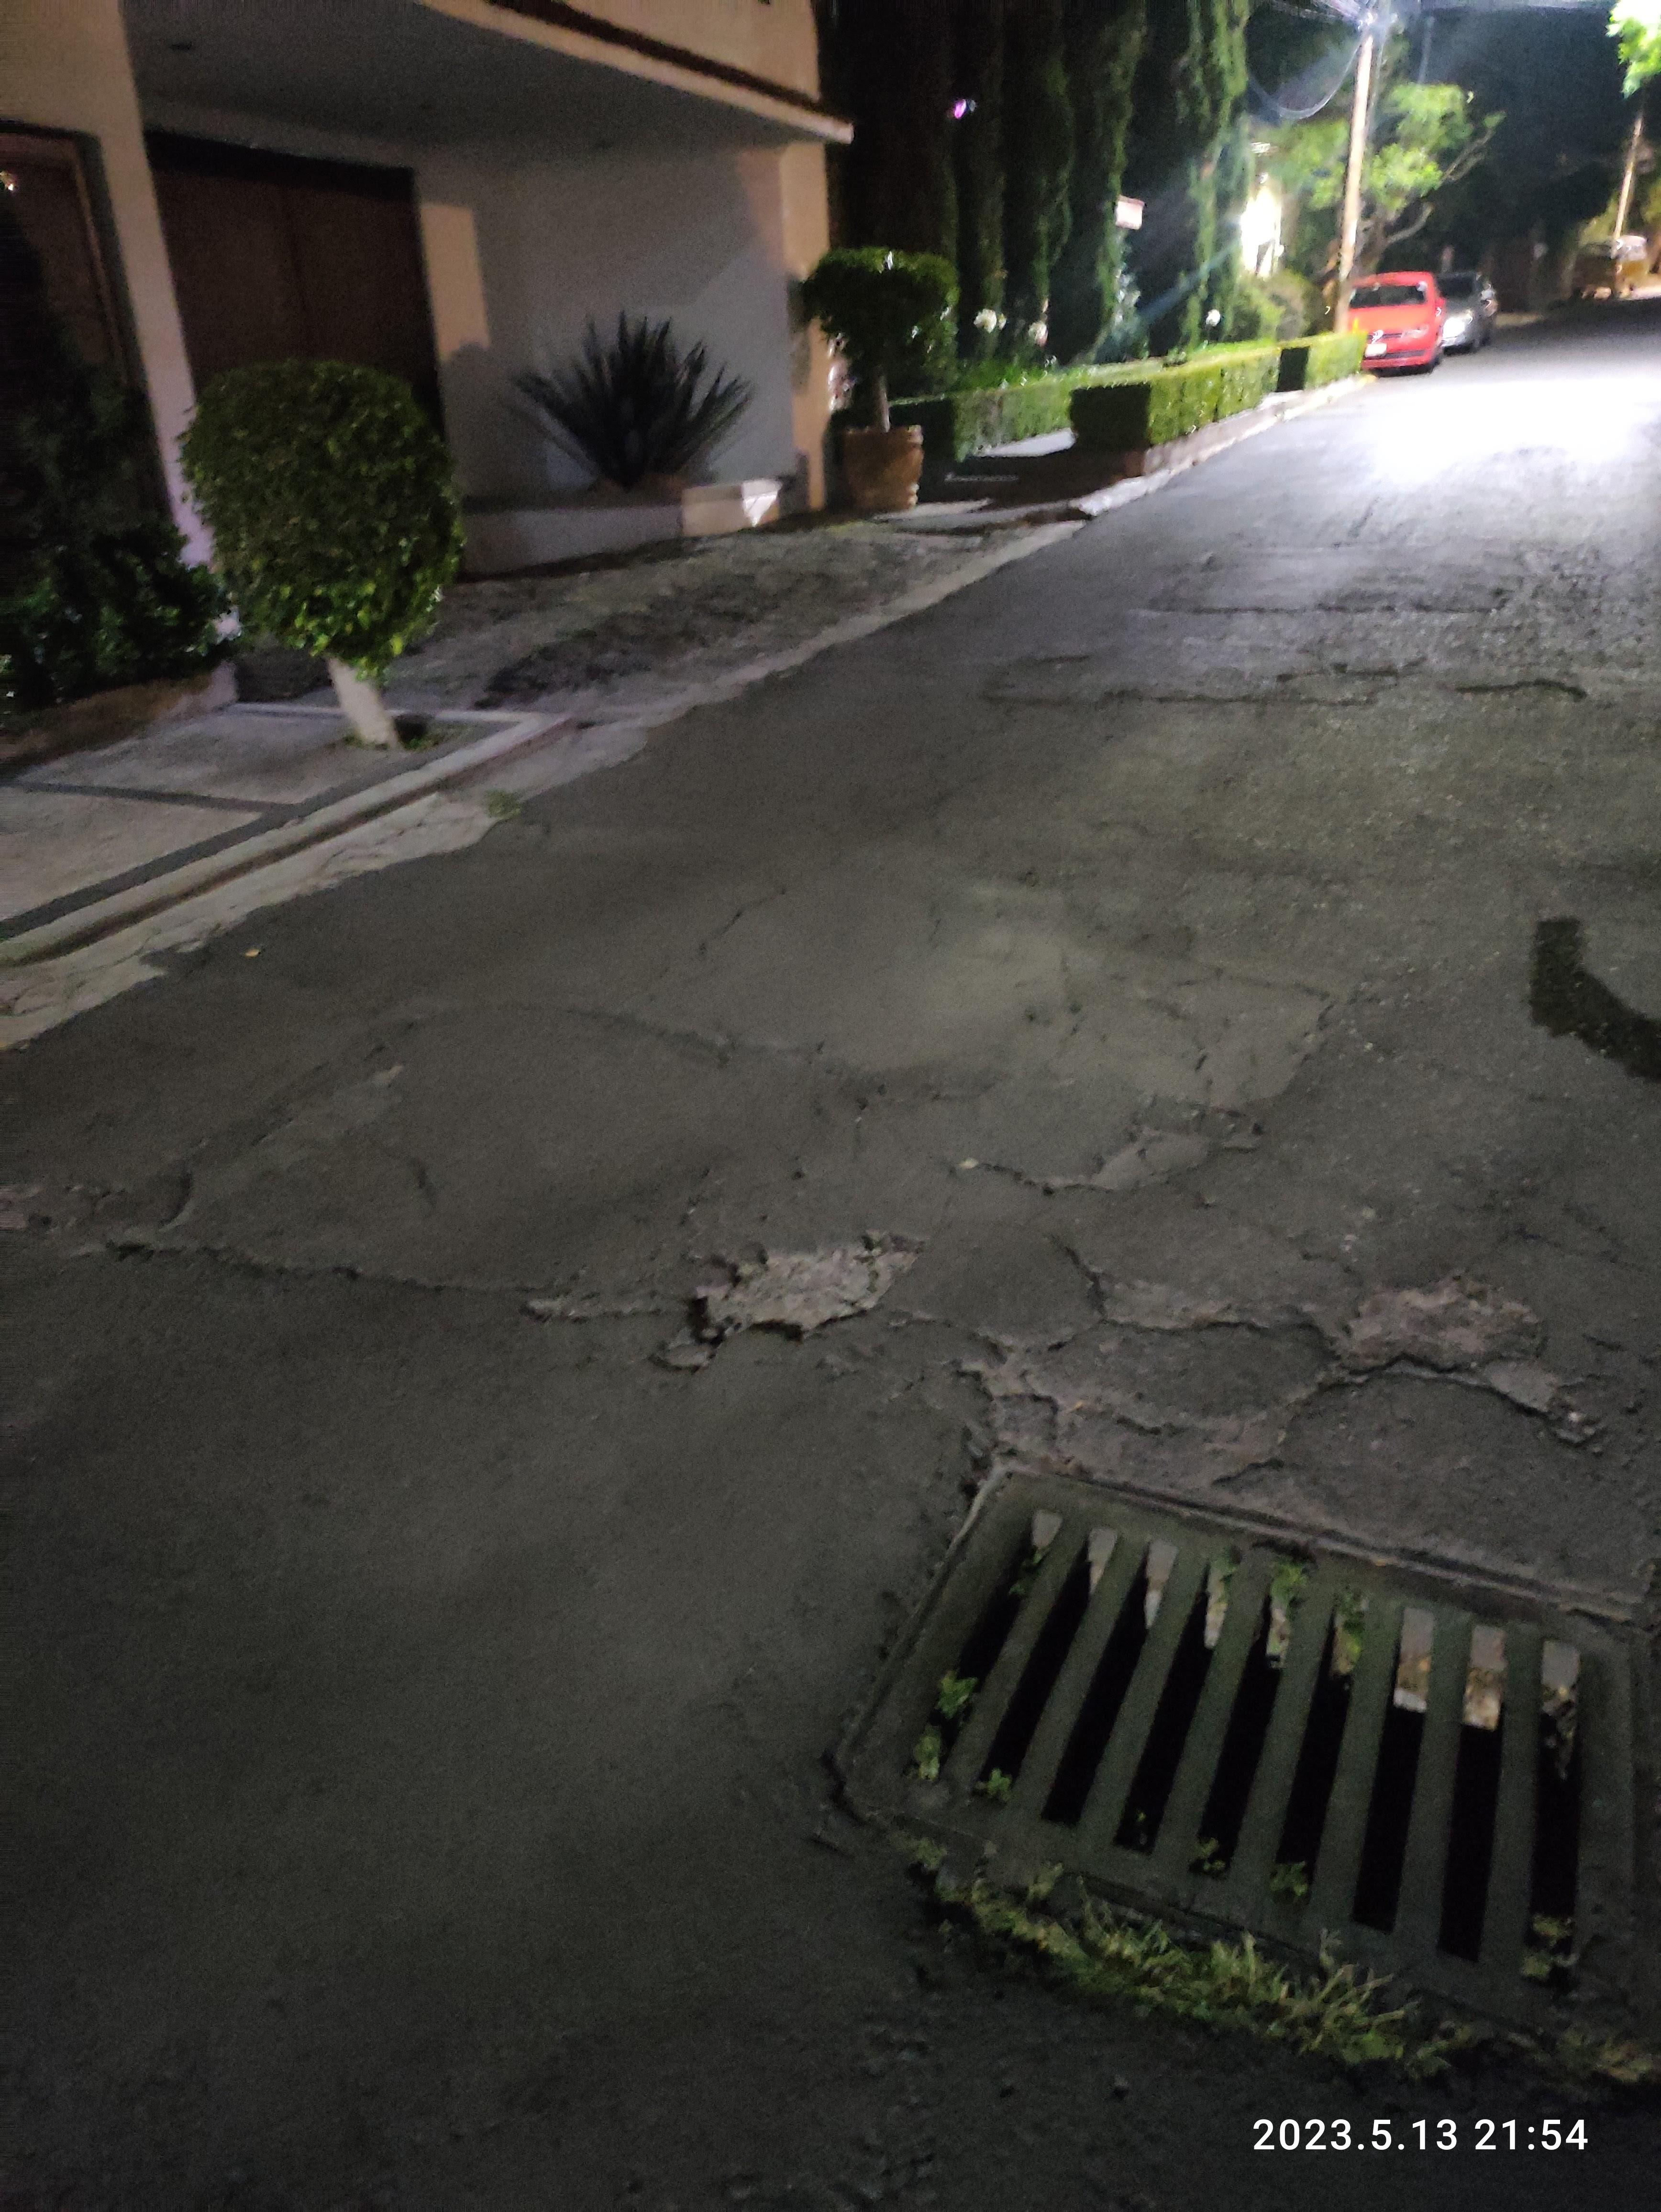alligator-crack: (59, 869, 1652, 1511)
